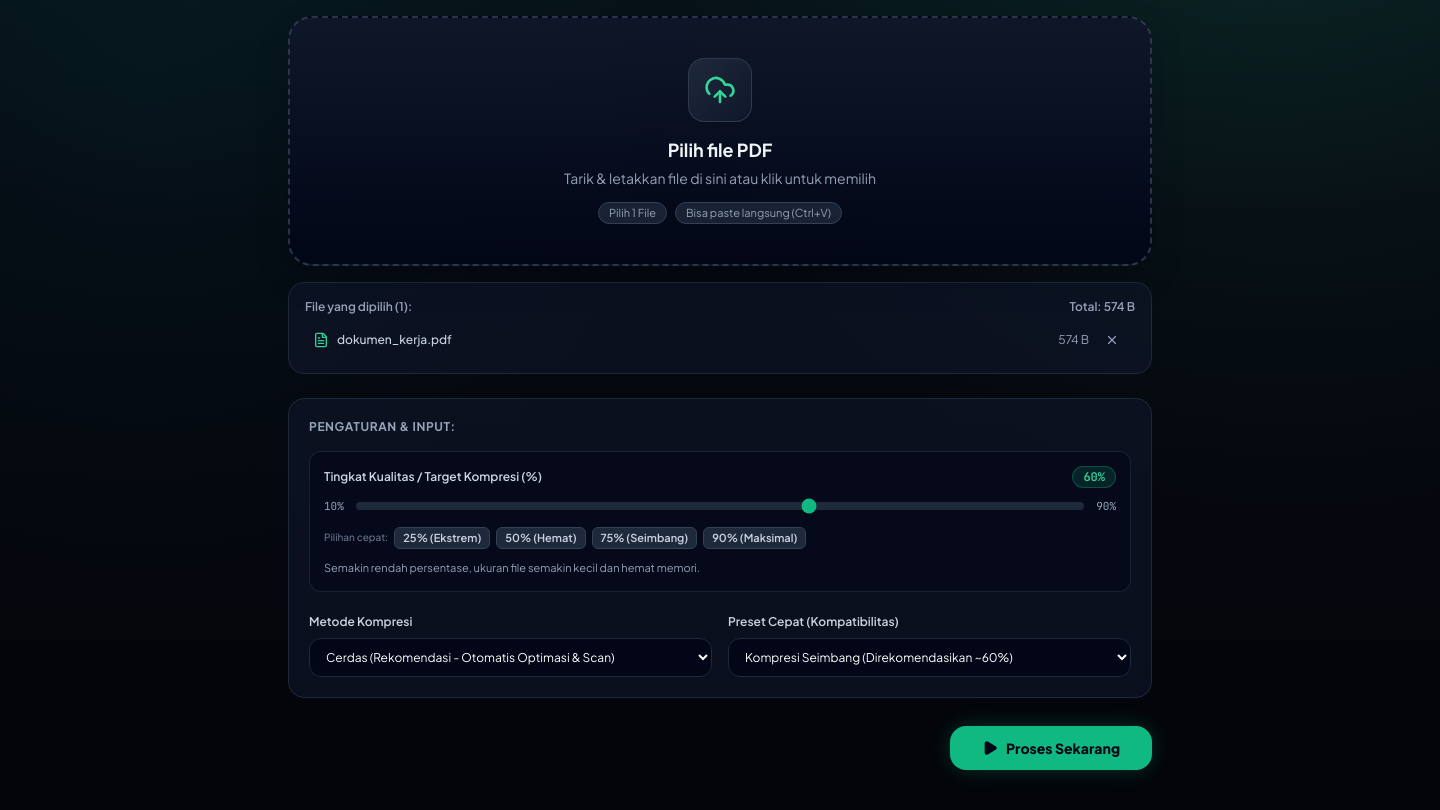
Test: End-to-End UI & Functional User Journeys (Task 6) › 2. File Upload & Processing Flow › Tool Runner: processes PDF compression with file upload and download button
(page scrolled)
Expected: the text "dokumen_kerja.pdf" is shown, [337,332,452,348]
Note: Run compression
Step 1. Click the button "Proses Sekarang" → (1051, 748), box [950,726,1152,770]
(page scrolled)
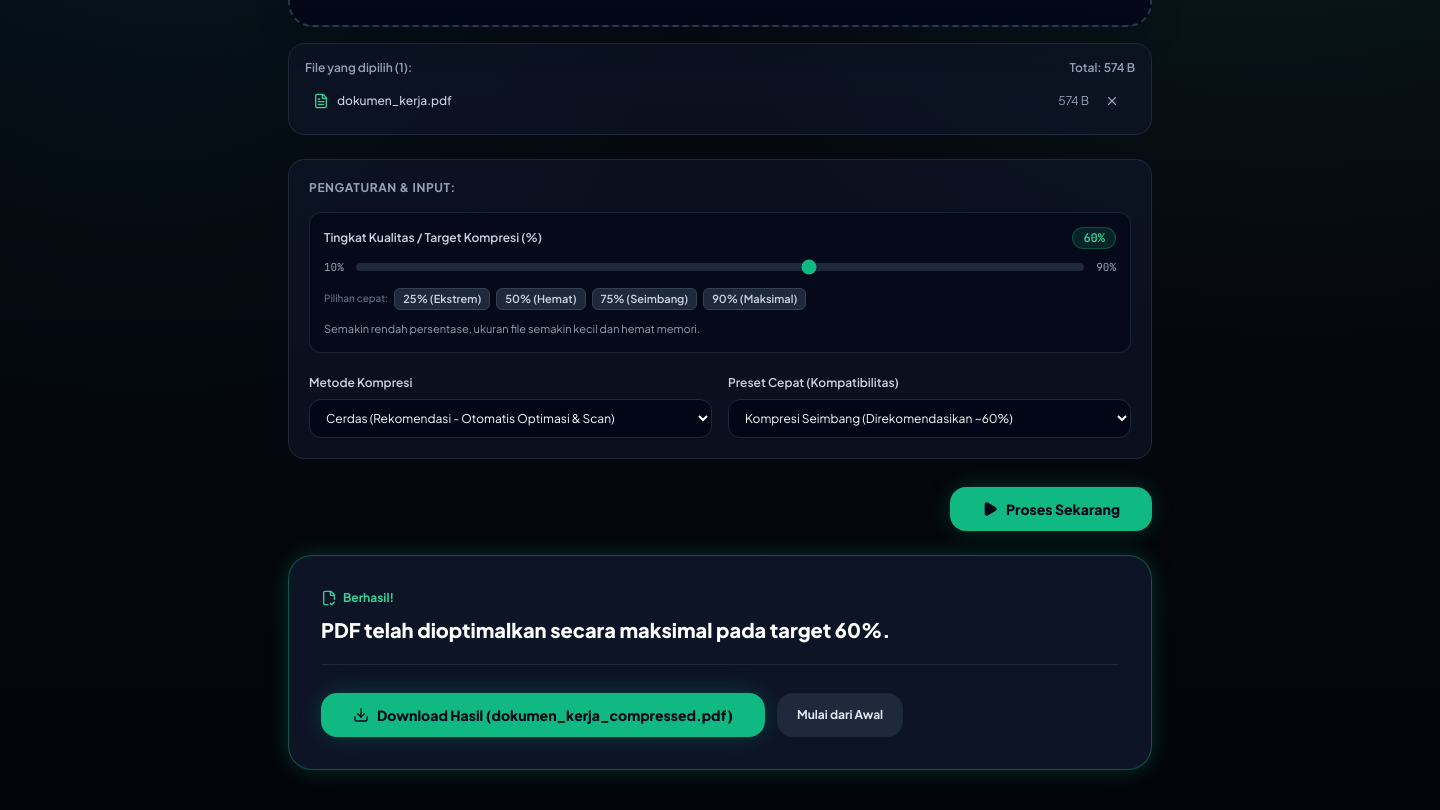
Expected: the text "Berhasil!" is shown, [321,590,394,606]
Expected: the button "Download Hasil (dokumen_kerja_compressed.pdf)" is shown, [321,693,765,737]
